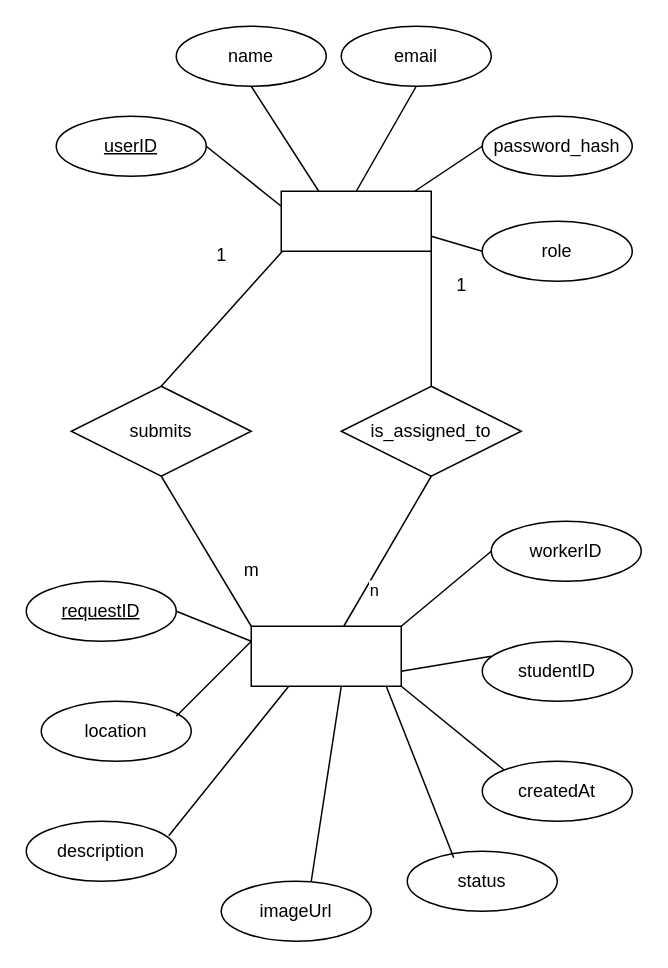
This 668x968 diagram has some shape labels left out. Here are the shapes that lost their labels. From the top down, the box of each, then its label:
(280, 190, 431, 251): User
(250, 625, 401, 686): Request
